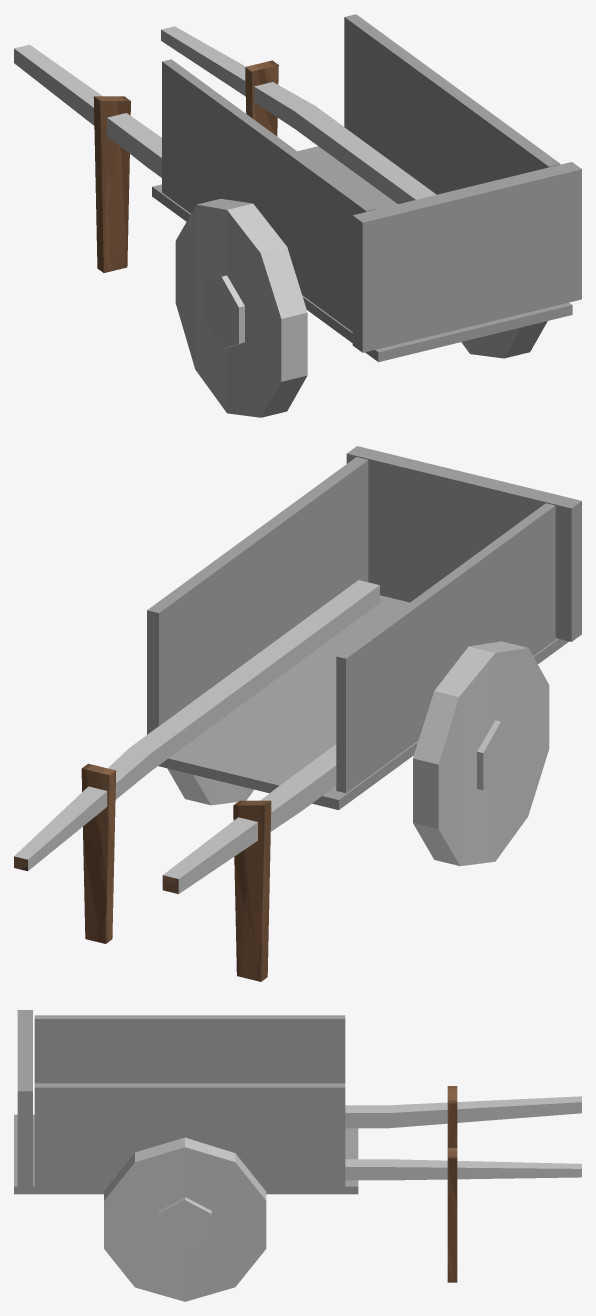
Rendered from Cart_Colider.fbx.
3 views of the same model, one above another, from view 1: azimuth 30°, elevation 25°; view 2: azimuth 150°, elevation 25°; view 3: azimuth 270°, elevation 25° (orthographic). The views are drawn at different scales.
Parts seen in each view (by area): view 1: _Cart_Colider; view 2: _Cart_Colider; view 3: _Cart_Colider.
Boxes of the visible parts, <box> form: _Cart_Colider: <box>14,14,581,417</box>; _Cart_Colider: <box>14,446,581,981</box>; _Cart_Colider: <box>14,1010,581,1301</box>.
Size of the model in its own units: 119 by 106 by 271.
